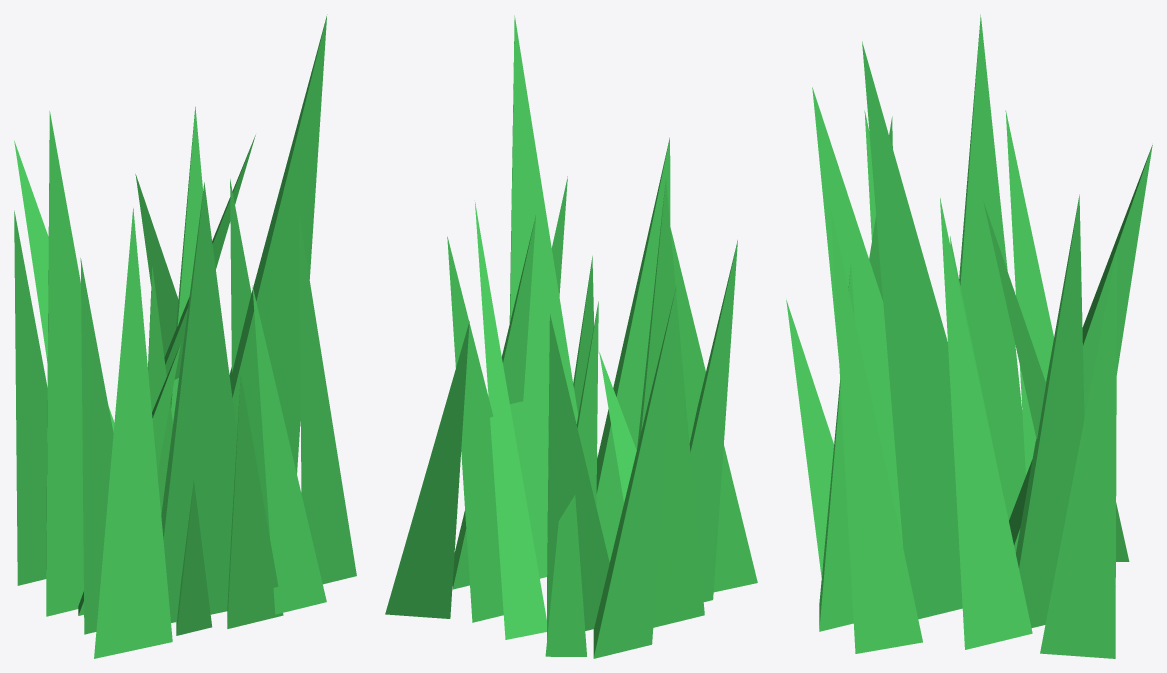
File: grass.fbx
3 views of the same model, side by side, from view 1: azimuth 30°, elevation 25°; view 2: azimuth 150°, elevation 25°; view 3: azimuth 270°, elevation 25° (orthographic). The views are drawn at different scales.
Visible parts, largest first — view 1: Cone.008; view 2: Cone.008; view 3: Cone.008.
Boxes of the visible parts, <box> form: Cone.008: <box>14,14,356,658</box>; Cone.008: <box>385,15,757,658</box>; Cone.008: <box>786,14,1152,658</box>.
Size of the model in its own units: 196 by 393 by 213.
